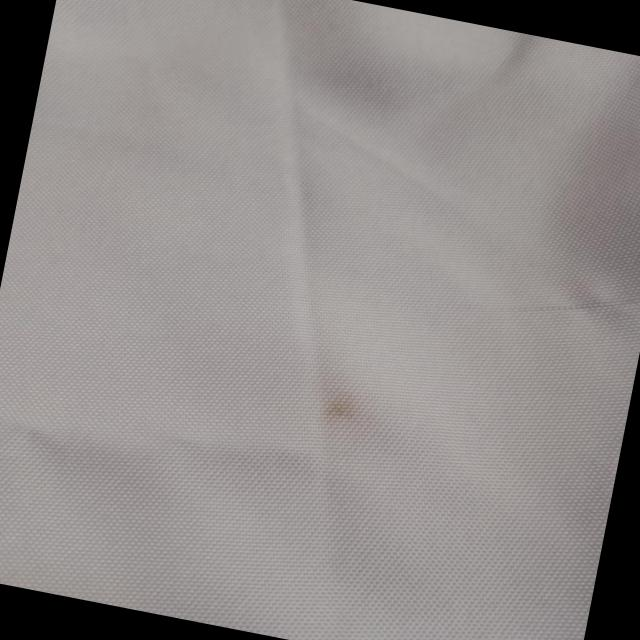stain: (315, 384, 373, 432)
